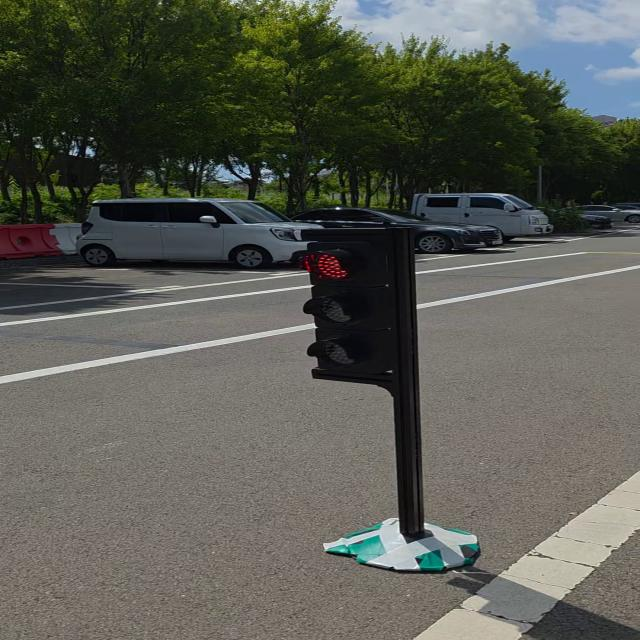red: (294, 234, 416, 388)
